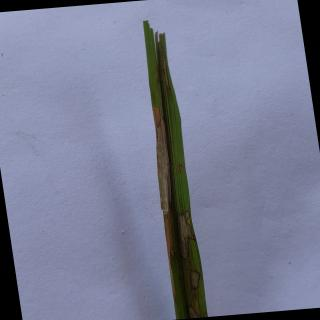Hawar-Daun: (149, 118, 173, 216), (168, 210, 198, 260), (185, 294, 203, 319), (188, 268, 202, 290)
